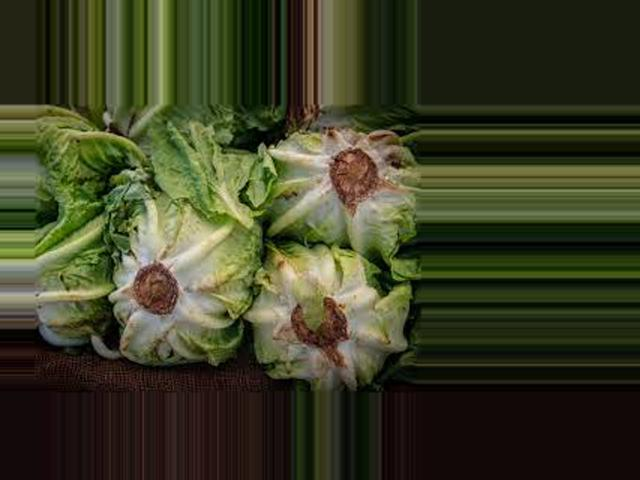lettuce: (266, 122, 417, 253)
